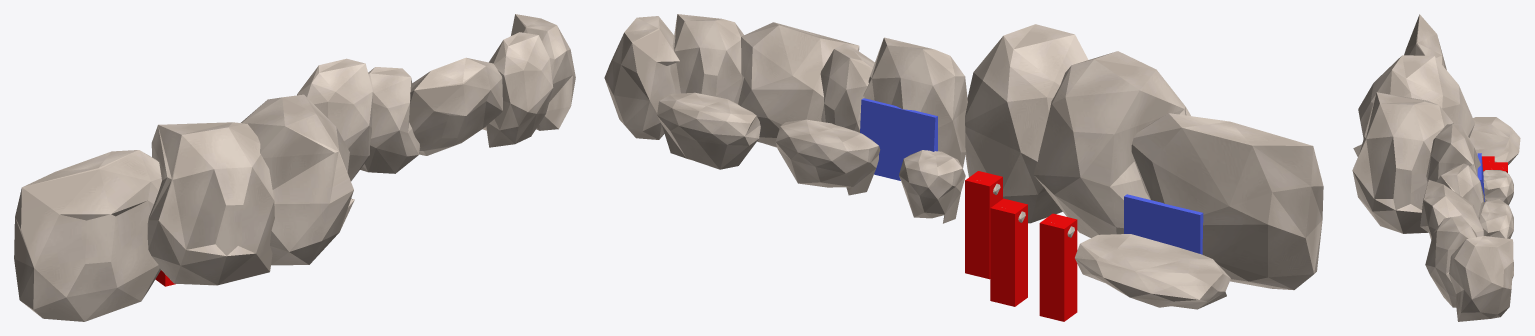
File: LevelStructure1.fbx
3 renders of one model, left to right at view 1: azimuth 30°, elevation 25°; view 2: azimuth 150°, elevation 25°; view 3: azimuth 270°, elevation 25°, orthographic. The views are drawn at different scales.
Parts seen in each view (by area): view 1: level2coolrock__5_, level2coolrock__7_, level2coolrock__6_, level2coolrock__2_, level2coolrock__1_, level2coolrock__4_, level2coolrock__3_, level2coolrock; view 2: level2coolrock__5_, level2coolrock__7_, level2coolrock__6_, level2coolrock__2_, level2rock3, level2coolrock__4_, level2coolrock, Icosphere, Icosphere__1_, level2coolrock__1_, level2rock2, Platform__4__2 (+5 smaller); view 3: level2coolrock__6_, level2coolrock, level2coolrock__7_, level2coolrock__1_, level2coolrock__2_, level2coolrock__4_, level2rock3, level2coolrock__3_, Icosphere__1_, level2coolrock__5_, Icosphere__2_, level2rock2.
Boxes of the visible parts, x1,y1,x2,y2 form: level2coolrock__5_: (14,150,161,321); level2coolrock__7_: (147,122,274,285); level2coolrock__6_: (241,94,354,265); level2coolrock__2_: (409,57,502,155); level2coolrock__1_: (486,32,553,147); level2coolrock__4_: (297,58,372,181); level2coolrock__3_: (360,67,420,173); level2coolrock: (511,14,575,130); level2coolrock__5_: (1131,113,1323,290); level2coolrock__7_: (1033,51,1190,237); level2coolrock__6_: (965,24,1088,223); level2coolrock__2_: (738,22,859,147); level2rock3: (1075,234,1230,309); level2coolrock__4_: (863,37,967,167); level2coolrock: (604,16,679,139); Icosphere: (657,92,760,169); Icosphere__1_: (775,119,880,195); level2coolrock__1_: (670,14,743,103); level2rock2: (860,98,937,180); Platform__4__2: (1039,213,1077,321); level2coolrock__6_: (1352,92,1453,233); level2coolrock: (1449,236,1513,321); level2coolrock__7_: (1353,55,1474,156); level2coolrock__1_: (1425,215,1477,307); level2coolrock__2_: (1420,180,1484,239); level2coolrock__4_: (1426,124,1480,183); level2rock3: (1469,117,1520,164); level2coolrock__3_: (1436,163,1484,217); Icosphere__1_: (1479,199,1513,238); level2coolrock__5_: (1404,14,1446,69); Icosphere__2_: (1483,170,1513,205); level2rock2: (1477,153,1484,201).
Size of the model in its own units: 20122 by 6325 by 5936.
4 materials, 2 textured.
